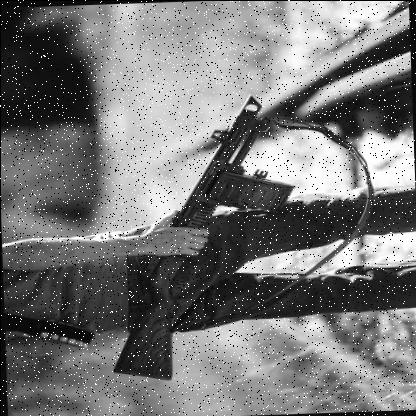rifle: (85, 94, 316, 384)
